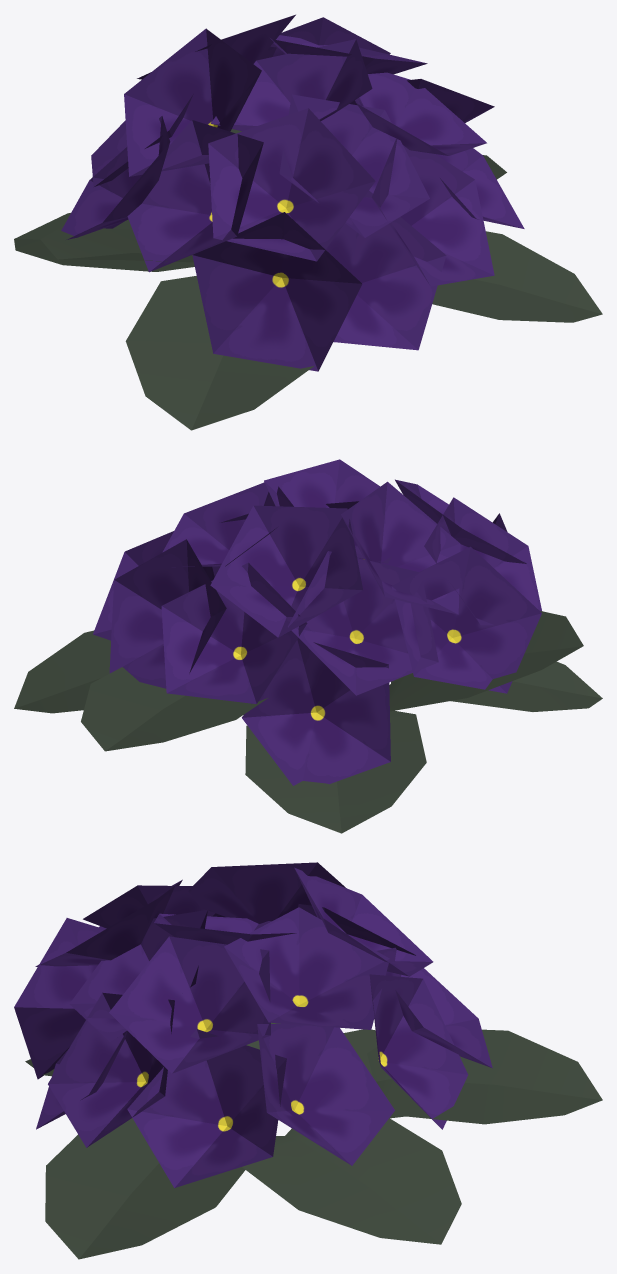
Rendered from Prop_PotPlant_02.fbx.
3 renders of one model, top to bottom at view 1: azimuth 30°, elevation 25°; view 2: azimuth 150°, elevation 25°; view 3: azimuth 270°, elevation 25°, orthographic. The views are drawn at different scales.
Parts seen in each view (by area): view 1: Prop_PotPlant_02_flower20; view 2: Prop_PotPlant_02_flower20; view 3: Prop_PotPlant_02_flower20.
Boxes of the visible parts, x1,y1,x2,y2 form: Prop_PotPlant_02_flower20: (14, 14, 602, 430); Prop_PotPlant_02_flower20: (14, 459, 602, 833); Prop_PotPlant_02_flower20: (14, 862, 602, 1259).
Size of the model in its own units: 42.23 by 20.59 by 41.75.
